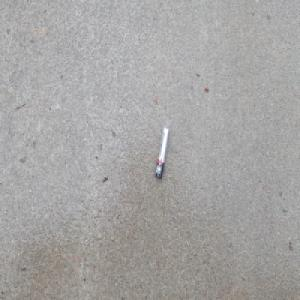Battery: (155, 125, 169, 180)
